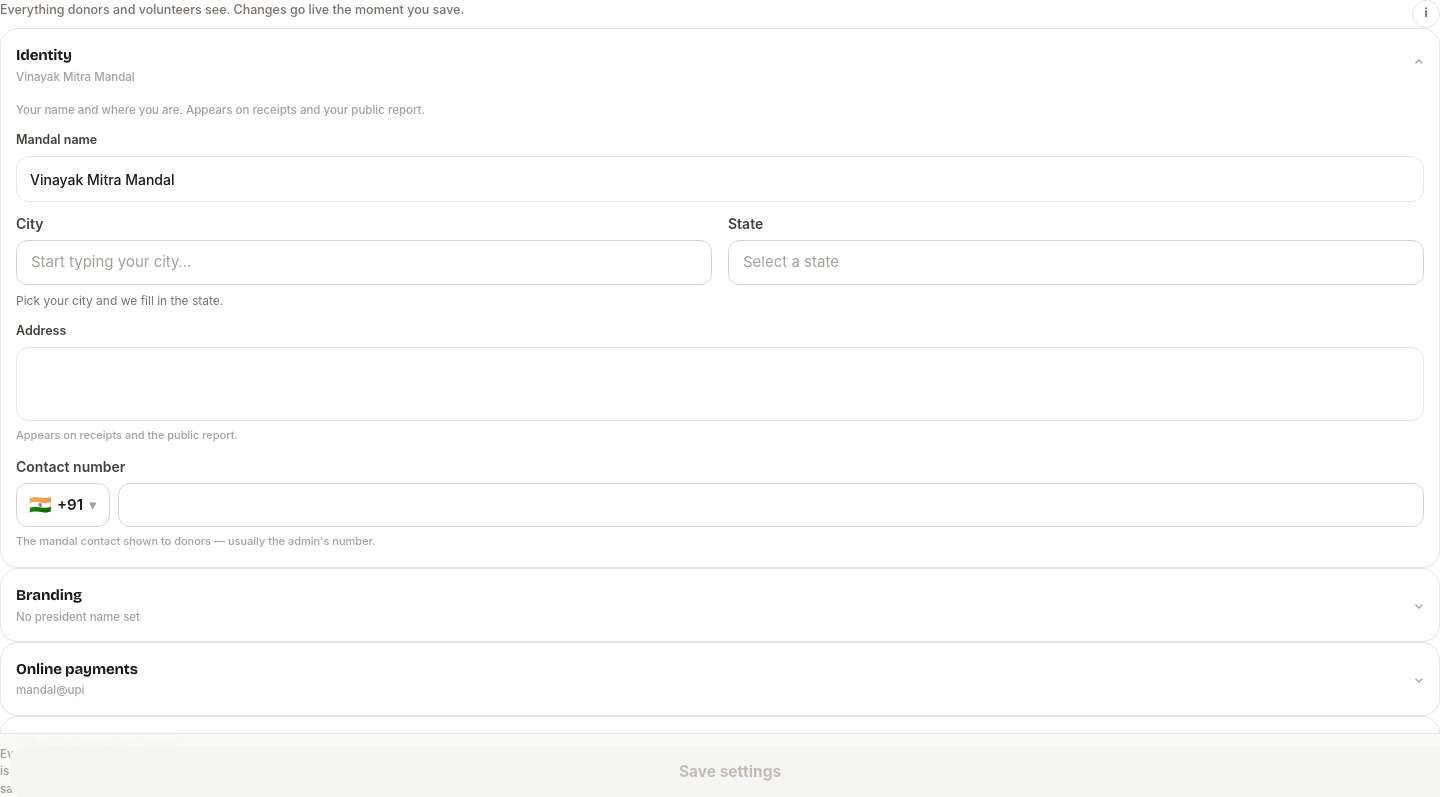
it: MandalConfigContent — the Settings tab › opens and closes the donor receipt preview with the current branding
The image size is (1440, 797).
Expected: the field labelled "Mandal name" holds "Vinayak Mitra Mandal", [16, 156, 1424, 202]
Click the button "Branding No president name set ⌄".
click(49, 595)  # box [1, 569, 1439, 641]
(page scrolled)
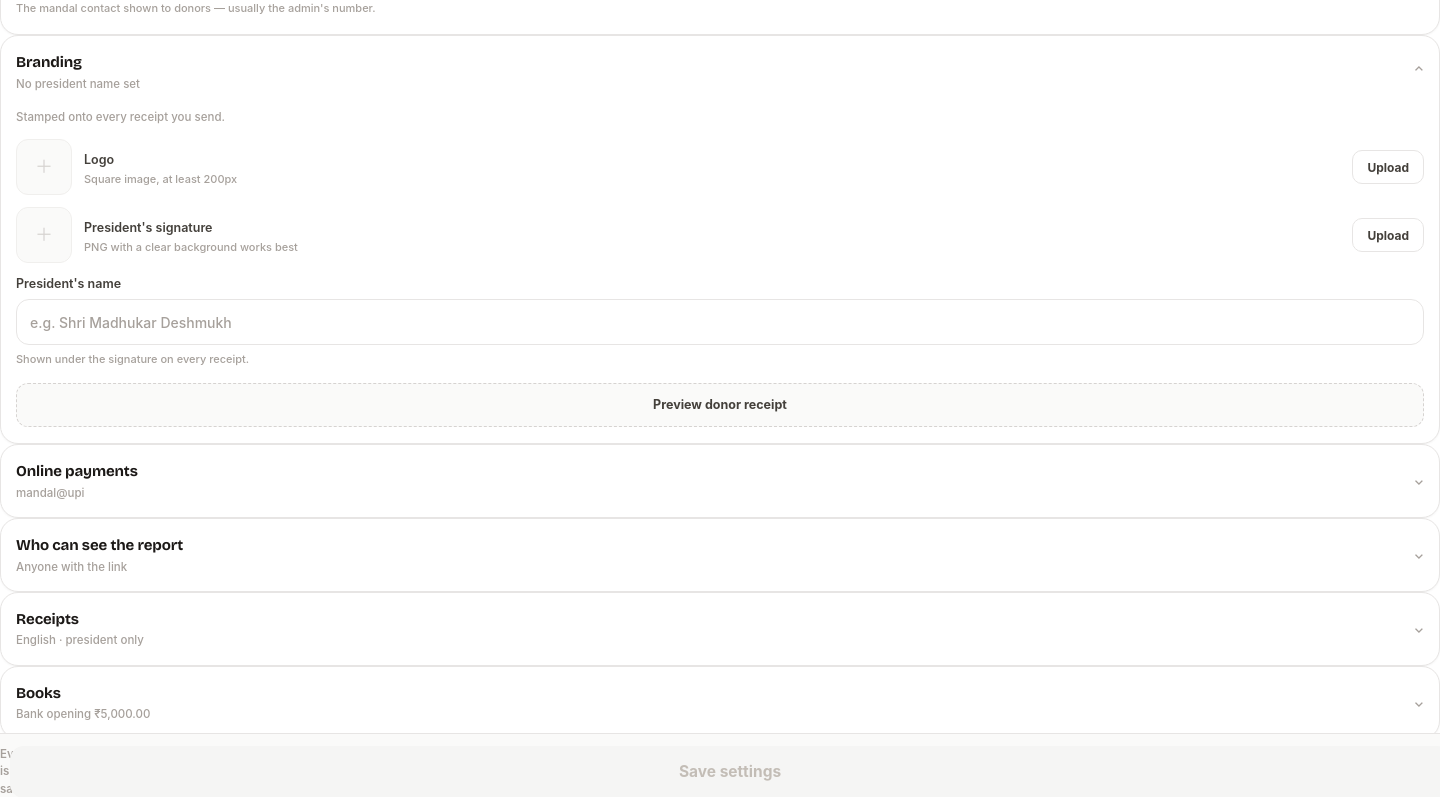
Click the button "Preview donor receipt".
click(720, 405)  # box [16, 383, 1424, 427]
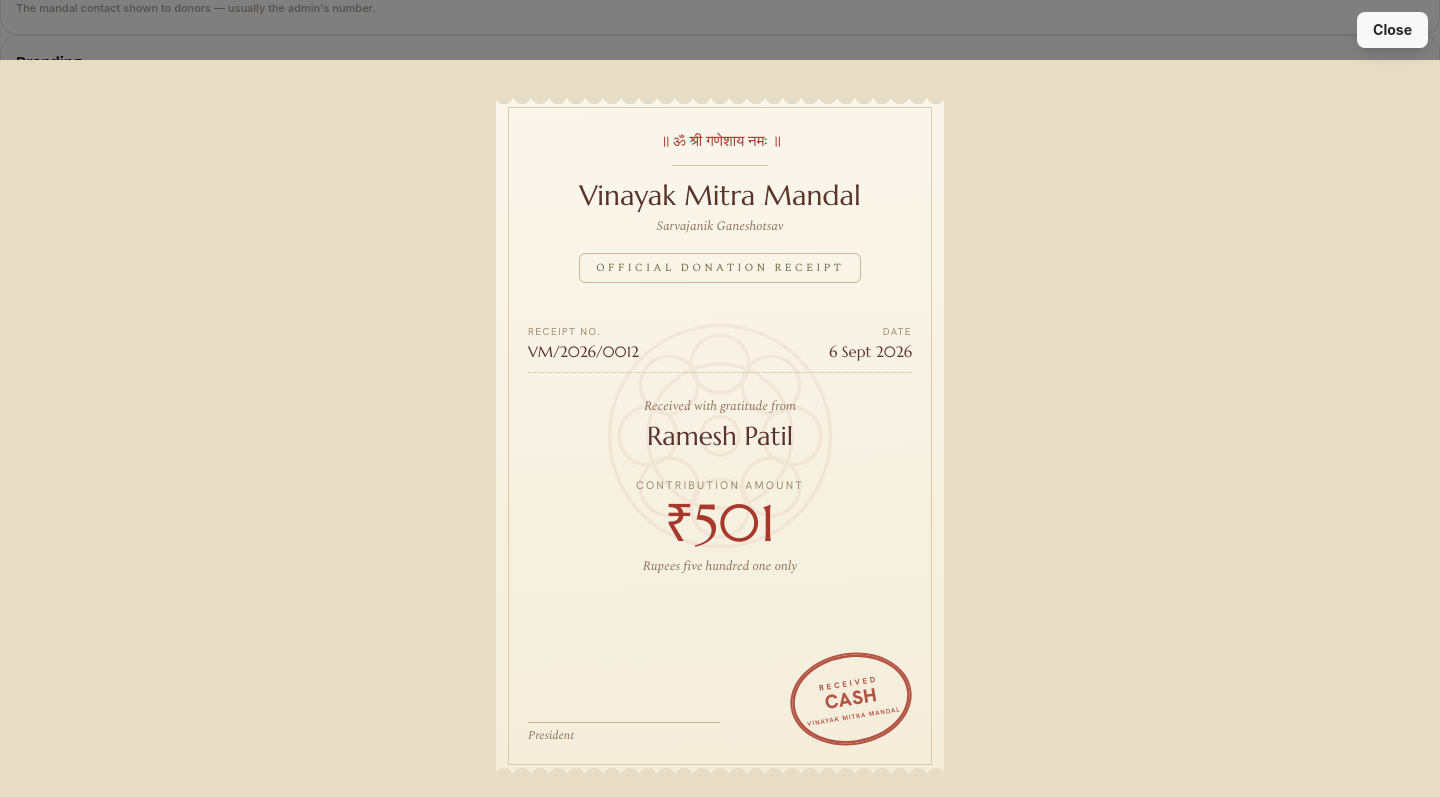
Result: the text "Ramesh Patil" is shown at [647, 420, 793, 452]
Result: the heading "Vinayak Mitra Mandal" is shown at [579, 178, 861, 213]
Click the button "Close".
click(1393, 30)  # box [1357, 12, 1428, 48]
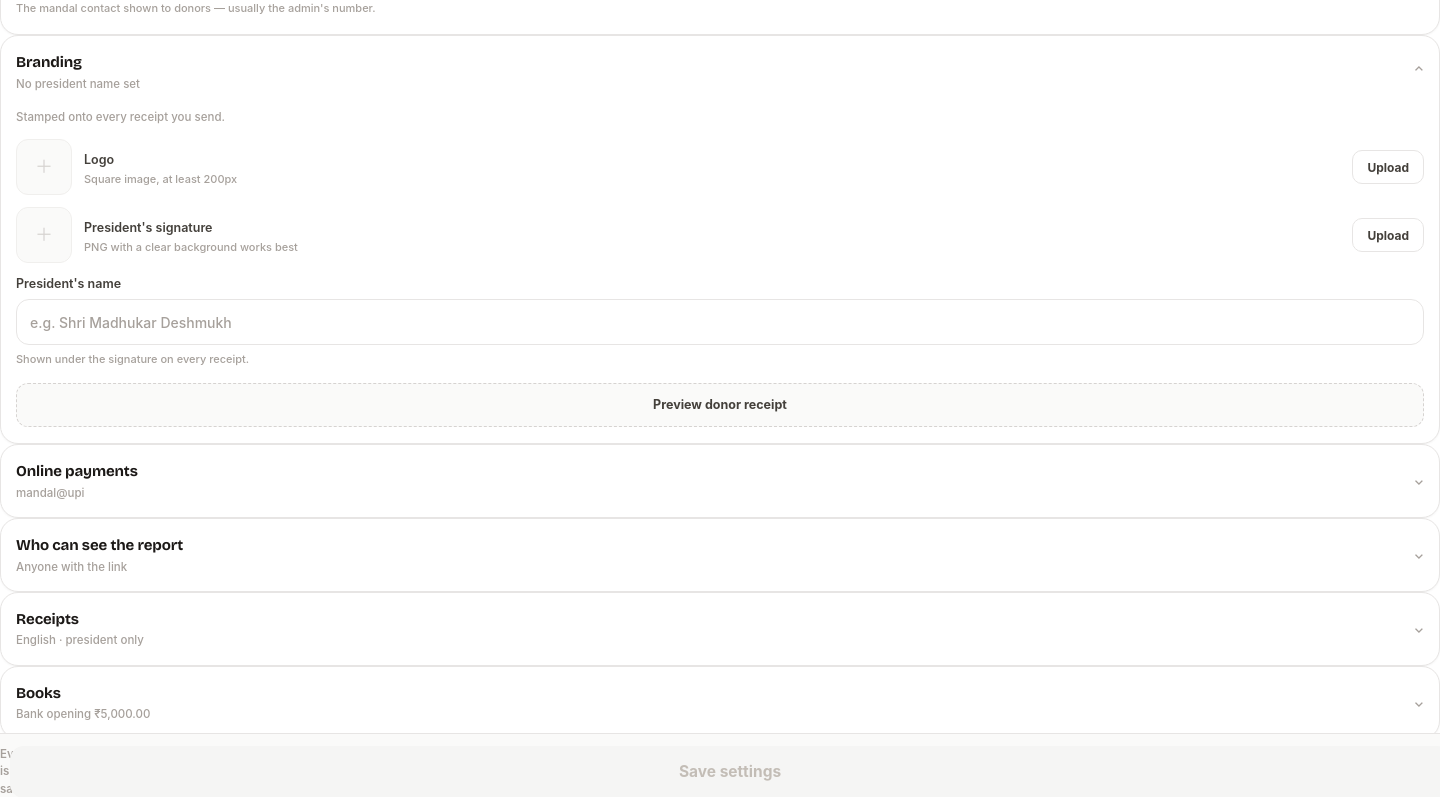
Result: the text "Ramesh Patil" is gone
